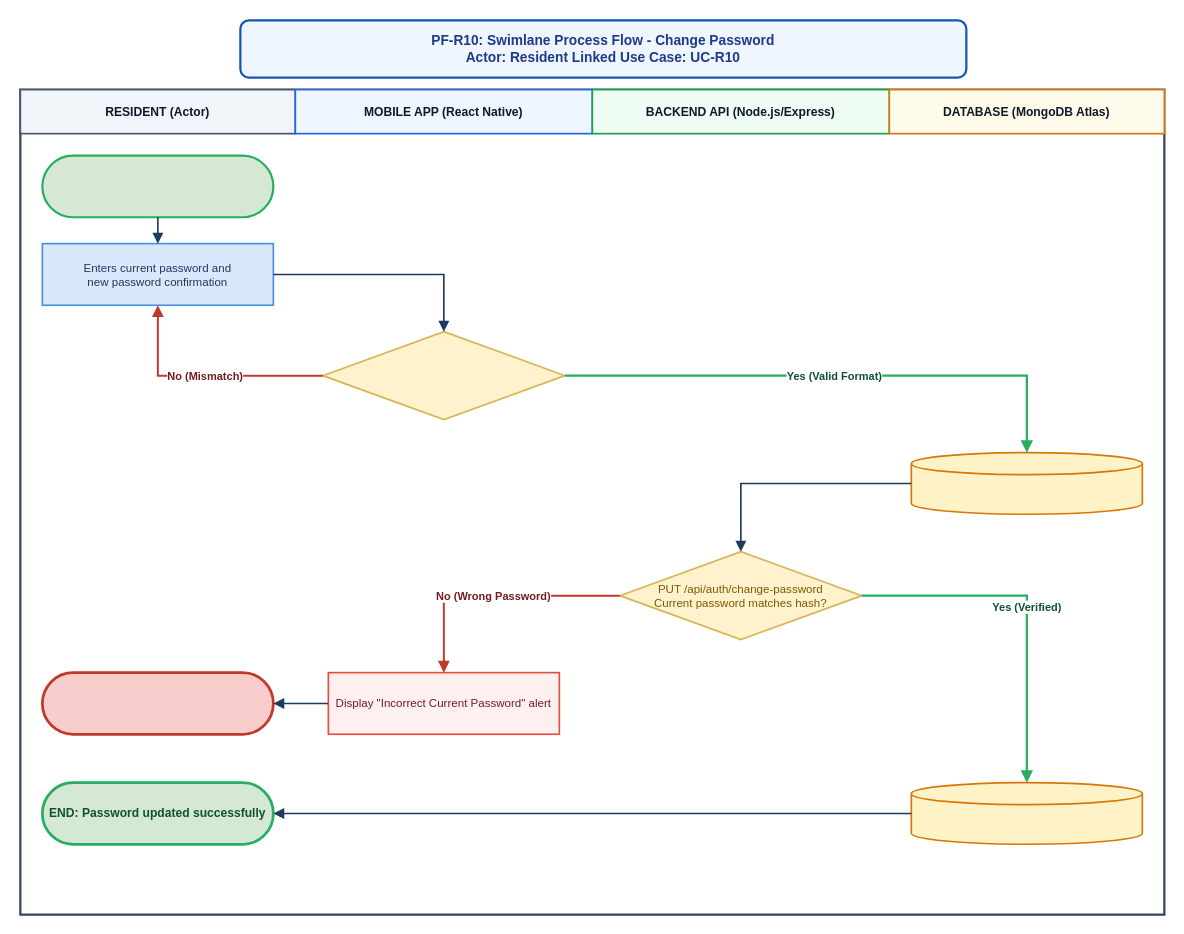
Some shapes in this 1184 by 934 pixel diagram are drawn without their labels. Each missing label, with the centre of its shape:
"END: Password change rejected" goes at point (157, 703).
"MongoDB: Reads current User hash to verify bcrypt password" goes at point (1026, 483).
"MongoDB: Updates User.password with new bcrypt hash (cost 10)" goes at point (1026, 813).
"New password meets rules & matches confirmation?" goes at point (443, 375).
"START: Opens Change Password" goes at point (157, 186).
